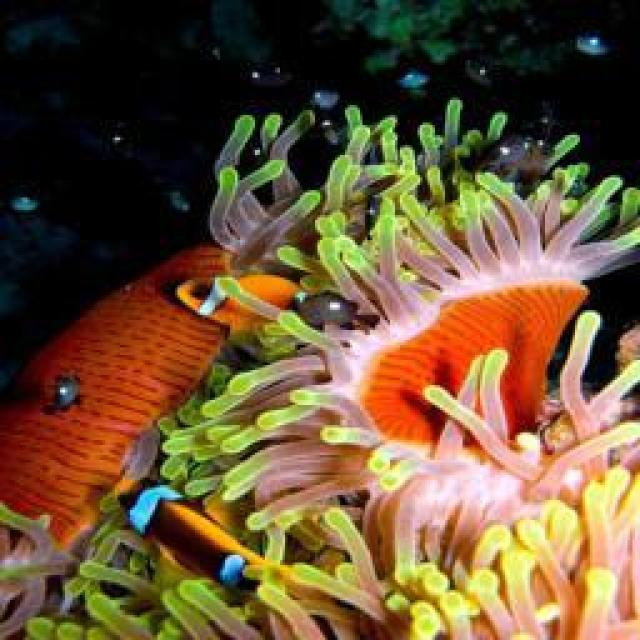fish: (114, 478, 265, 599), (174, 274, 323, 326), (304, 290, 382, 330)
reefs: (0, 94, 638, 638)
